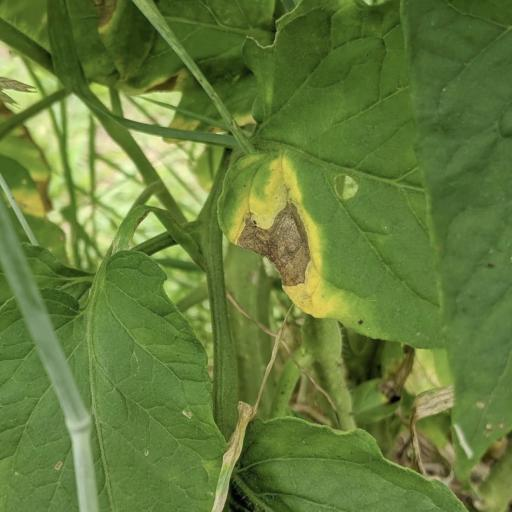Early Blight: (214, 105, 362, 325)
